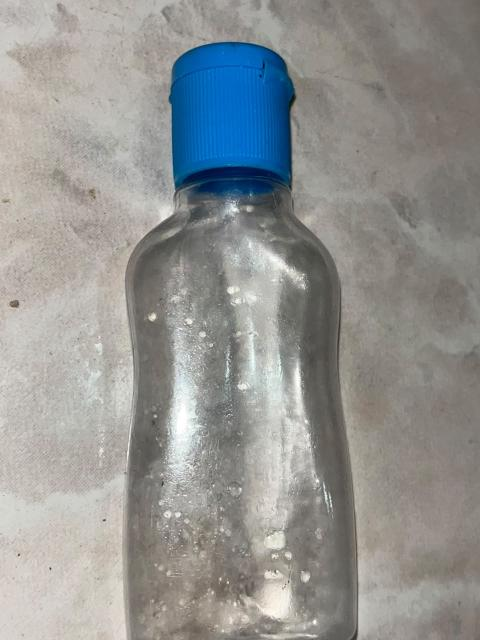PET: (103, 29, 383, 640)
